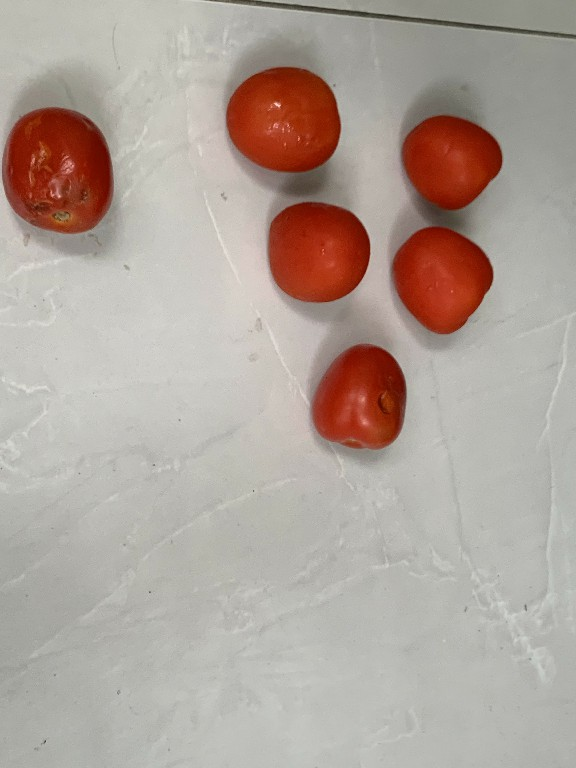NG: (0, 106, 121, 237), (304, 337, 408, 456)
OK: (219, 67, 349, 177), (385, 221, 498, 339), (261, 193, 369, 306), (393, 109, 503, 216)
